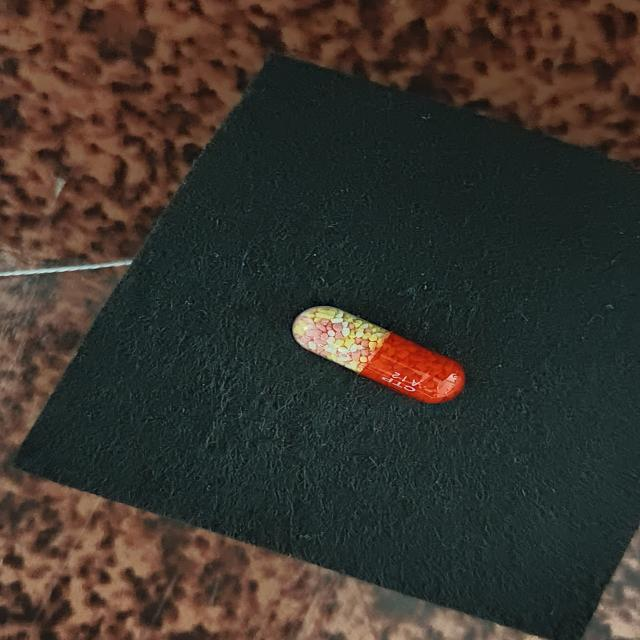Intact Capsule: (292, 306, 466, 404)
